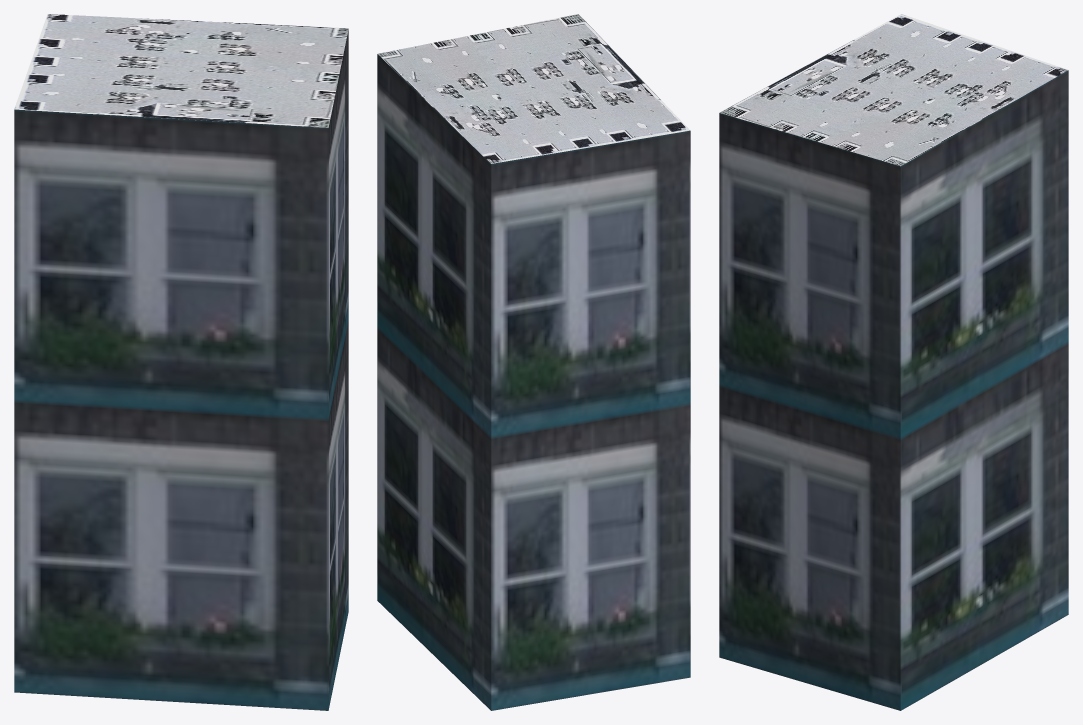
File: ResTex__4449.fbx
3 views of the same model, side by side, from view 1: azimuth 30°, elevation 25°; view 2: azimuth 150°, elevation 25°; view 3: azimuth 270°, elevation 25° (orthographic). The views are drawn at different scales.
Parts seen in each view (by area): view 1: CityEngineMaterial_11_m, CityEngineMaterial_8_m; view 2: CityEngineMaterial_11_m, CityEngineMaterial_8_m; view 3: CityEngineMaterial_11_m, CityEngineMaterial_8_m.
Part boxes in pixels (bbox=[...]): CityEngineMaterial_11_m: bbox=[14, 30, 348, 710]; CityEngineMaterial_8_m: bbox=[14, 14, 348, 127]; CityEngineMaterial_11_m: bbox=[377, 54, 690, 710]; CityEngineMaterial_8_m: bbox=[378, 14, 689, 163]; CityEngineMaterial_11_m: bbox=[719, 70, 1068, 710]; CityEngineMaterial_8_m: bbox=[719, 14, 1068, 166].
Size of the model in its own units: 3.6 by 6 by 3.49.
Materials: 2 (2 with a texture image).
